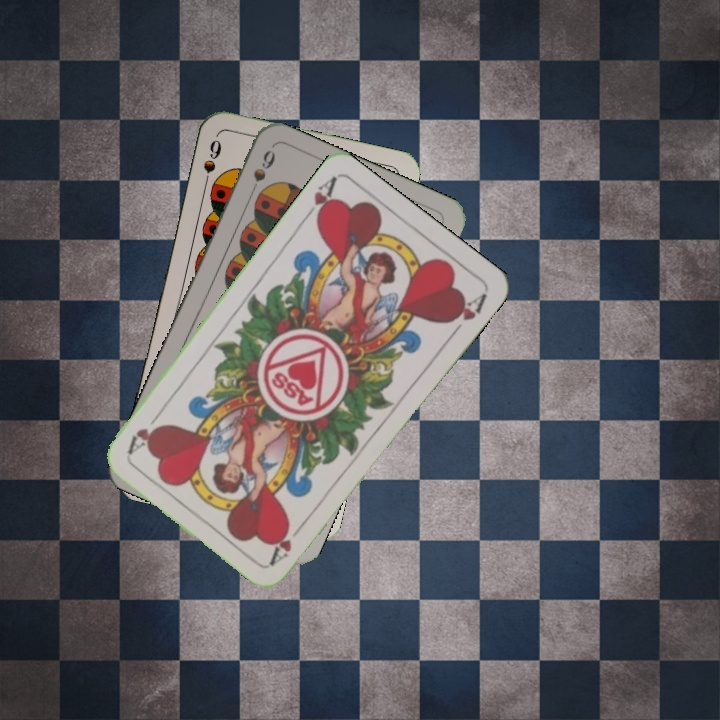HA: (297, 173, 339, 226), (266, 516, 309, 567)
S9: (245, 146, 278, 203), (199, 135, 224, 192)
